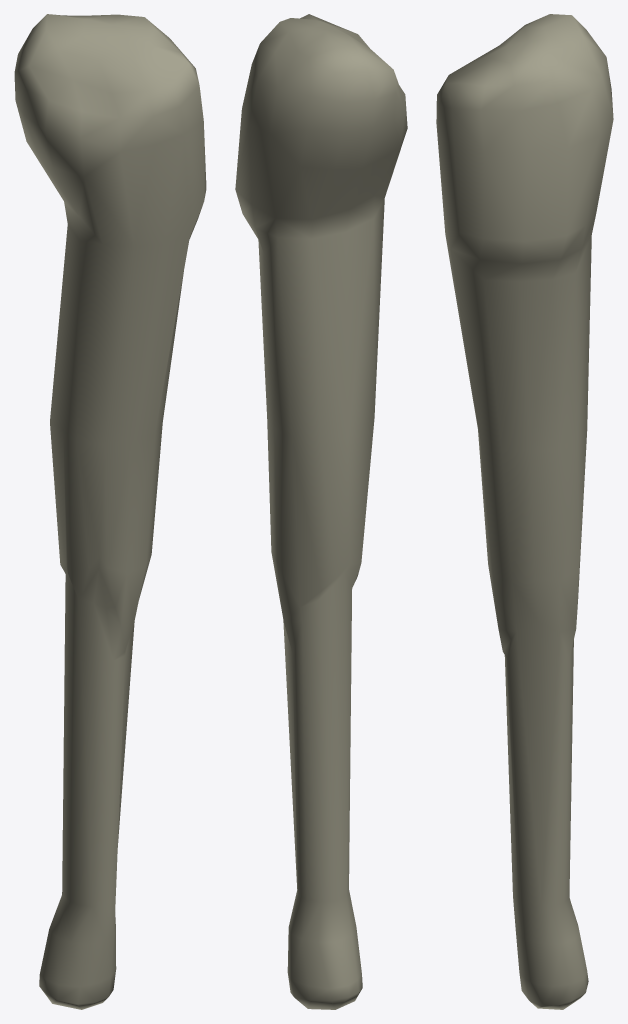
3 views of the same model, side by side, from view 1: azimuth 30°, elevation 25°; view 2: azimuth 150°, elevation 25°; view 3: azimuth 270°, elevation 25° (orthographic).
Parts seen in each view (by area): view 1: SM_Cliff_Bottom_Rock_04_LOD0; view 2: SM_Cliff_Bottom_Rock_04_LOD0; view 3: SM_Cliff_Bottom_Rock_04_LOD0.
Boxes of the visible parts, x1,y1,x2,y2 form: SM_Cliff_Bottom_Rock_04_LOD0: [14, 14, 206, 1009]; SM_Cliff_Bottom_Rock_04_LOD0: [235, 14, 407, 1009]; SM_Cliff_Bottom_Rock_04_LOD0: [436, 14, 613, 1009].
Size of the model in its own units: 0.1672 by 0.9823 by 0.1618.
